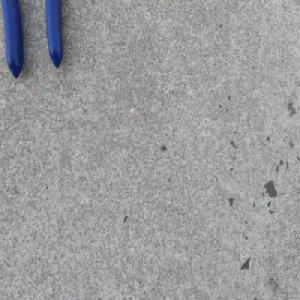Pliers: (0, 0, 66, 80)
